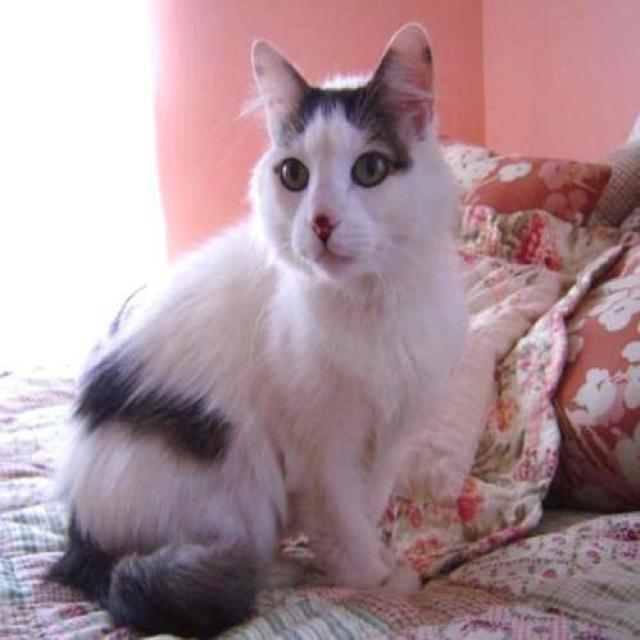cat: (41, 19, 471, 638)
